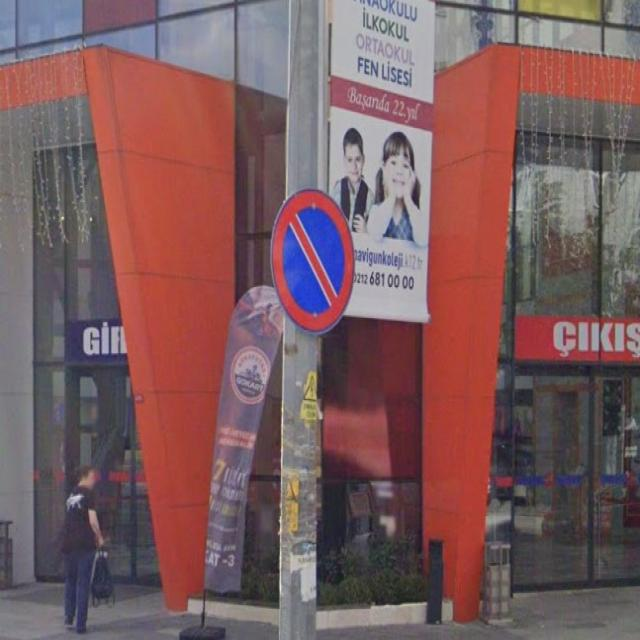parkyasak: (271, 187, 353, 330)
